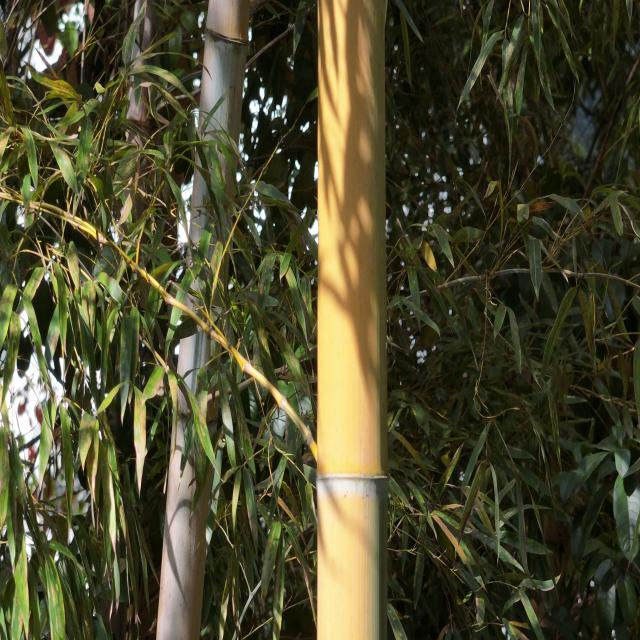Bamboo-shoots: (318, 0, 388, 640)
